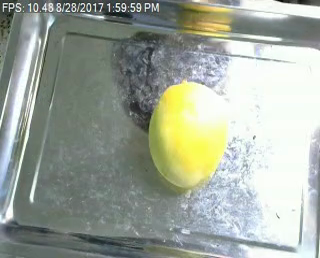Mango: (136, 76, 234, 187)
